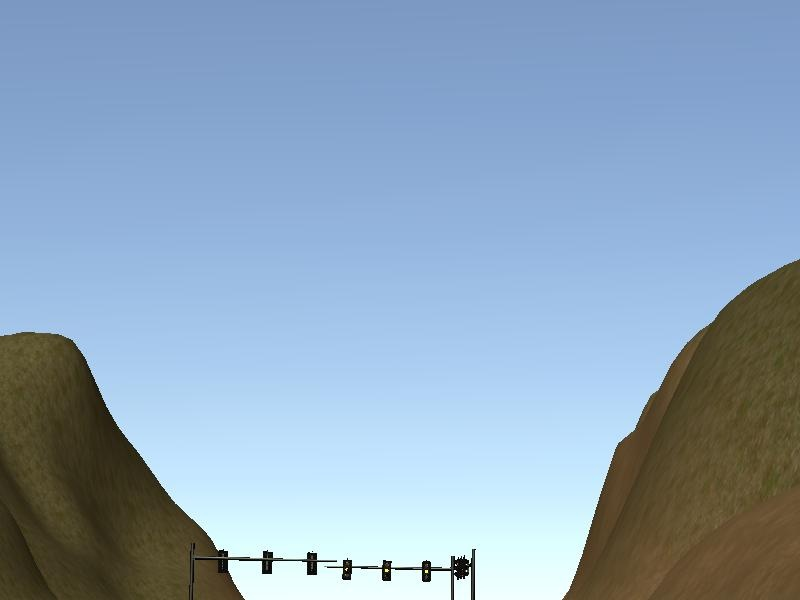traffic_light_yellow: (332, 560, 451, 582)
